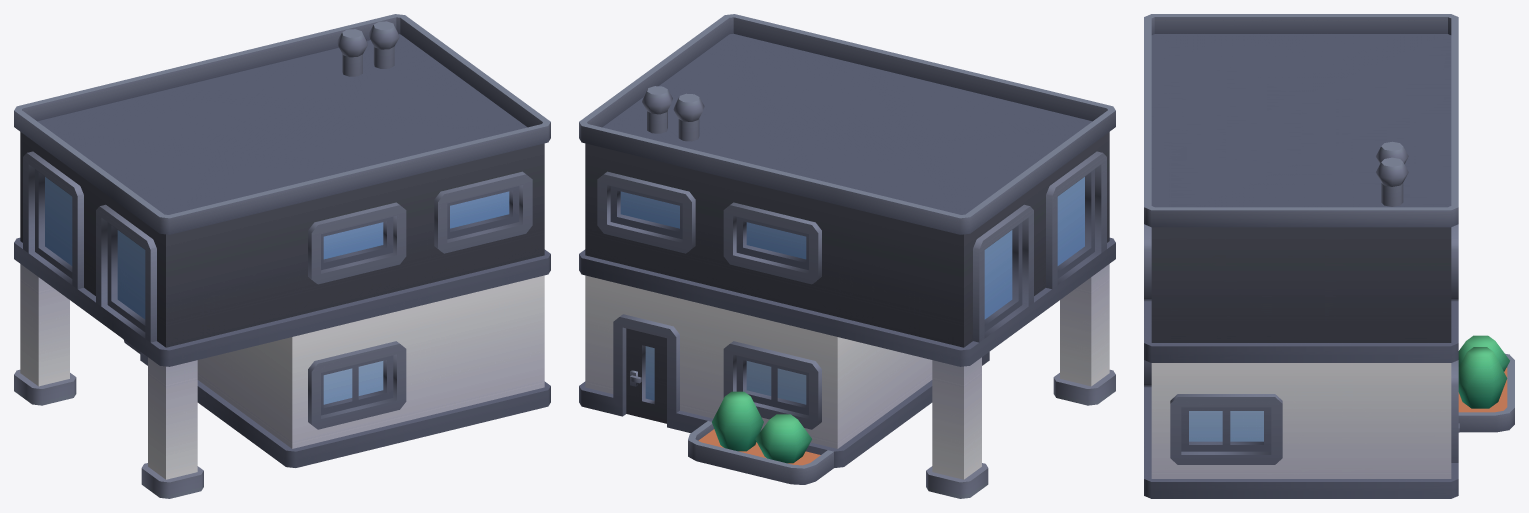
The model's file is building-type-p.draco.glb.
3 renders of one model, left to right at view 1: azimuth 30°, elevation 25°; view 2: azimuth 150°, elevation 25°; view 3: azimuth 270°, elevation 25°, orthographic. The views are drawn at different scales.
Visible parts, largest first — view 1: building-type-p; view 2: building-type-p; view 3: building-type-p.
Boxes of the visible parts, bbox=[...] form: building-type-p: bbox=[14, 14, 550, 498]; building-type-p: bbox=[579, 14, 1115, 498]; building-type-p: bbox=[1144, 14, 1514, 498].
Bounding box in the file's own units: 1.24 × 0.918 × 0.99.
1 material, 1 textured.
